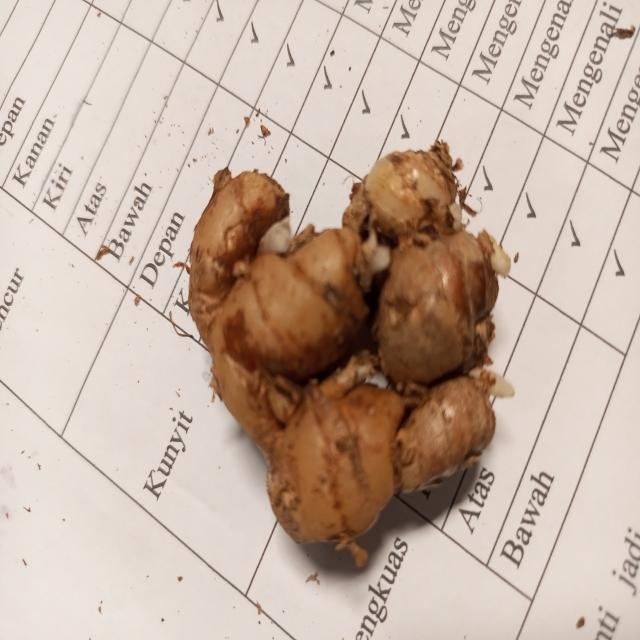ginger: (200, 162, 493, 520)
